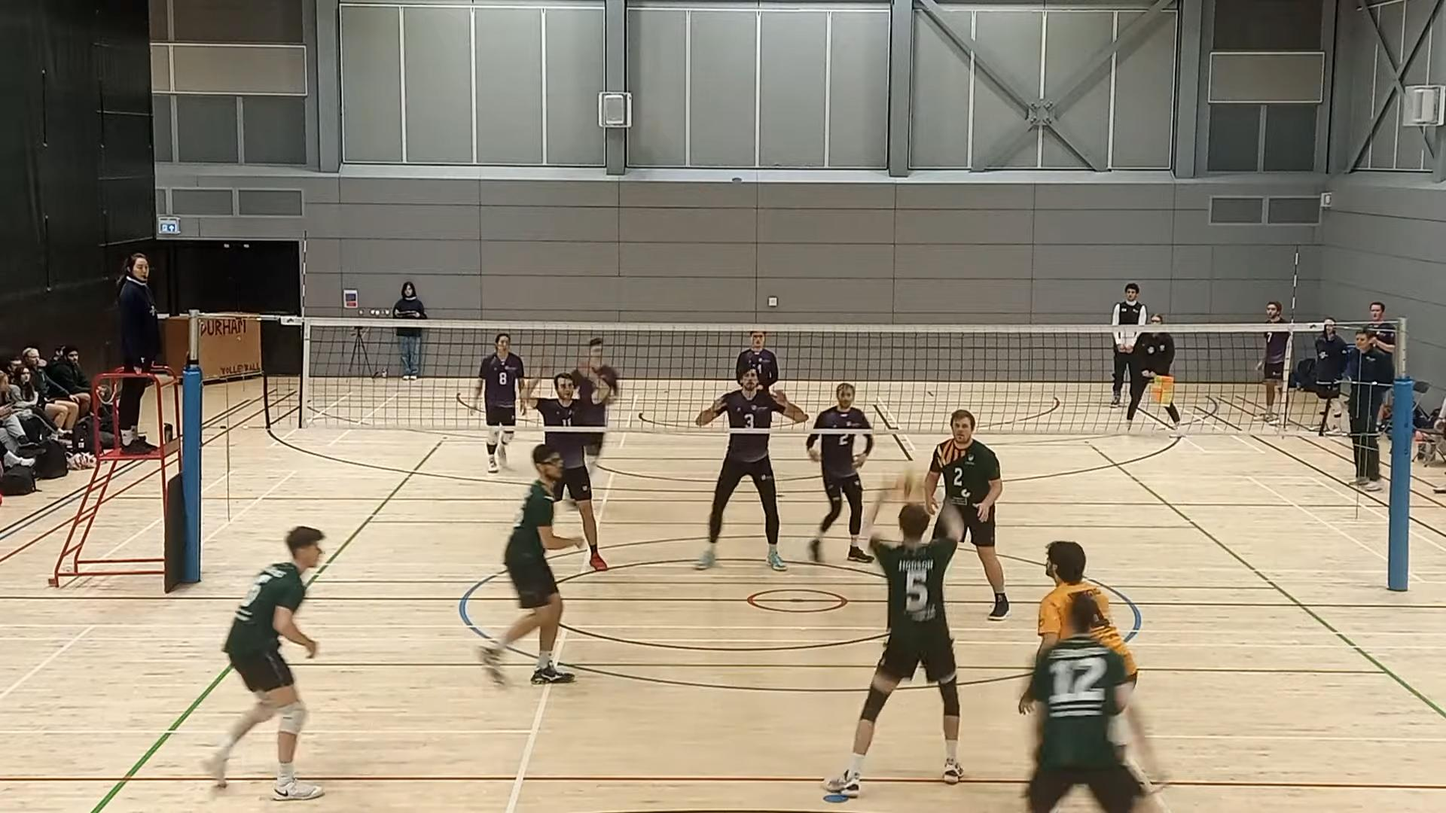Player: (206, 526, 323, 800), (1026, 592, 1147, 812), (480, 443, 582, 685), (695, 370, 807, 571), (925, 410, 1008, 620), (1038, 540, 1136, 686), (806, 432, 874, 562), (545, 431, 606, 571), (474, 333, 524, 473), (571, 338, 618, 428), (735, 330, 779, 391)
Receive: (825, 476, 963, 802)
ball: (893, 471, 926, 502)
